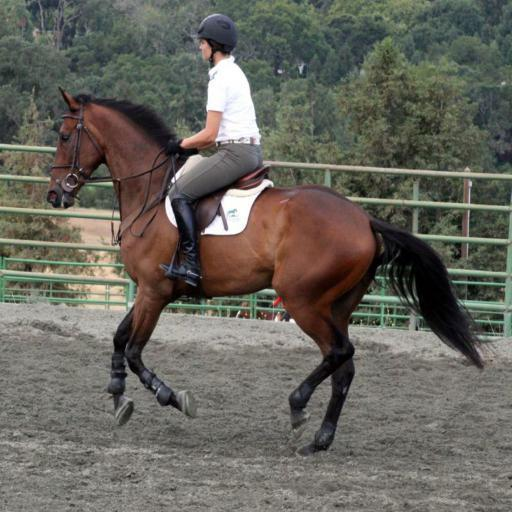horse: (46, 86, 487, 458)
